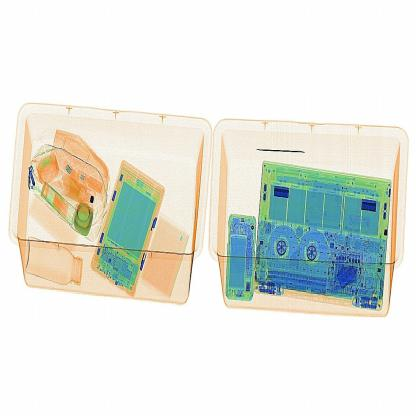wrench: (242, 141, 310, 162)
